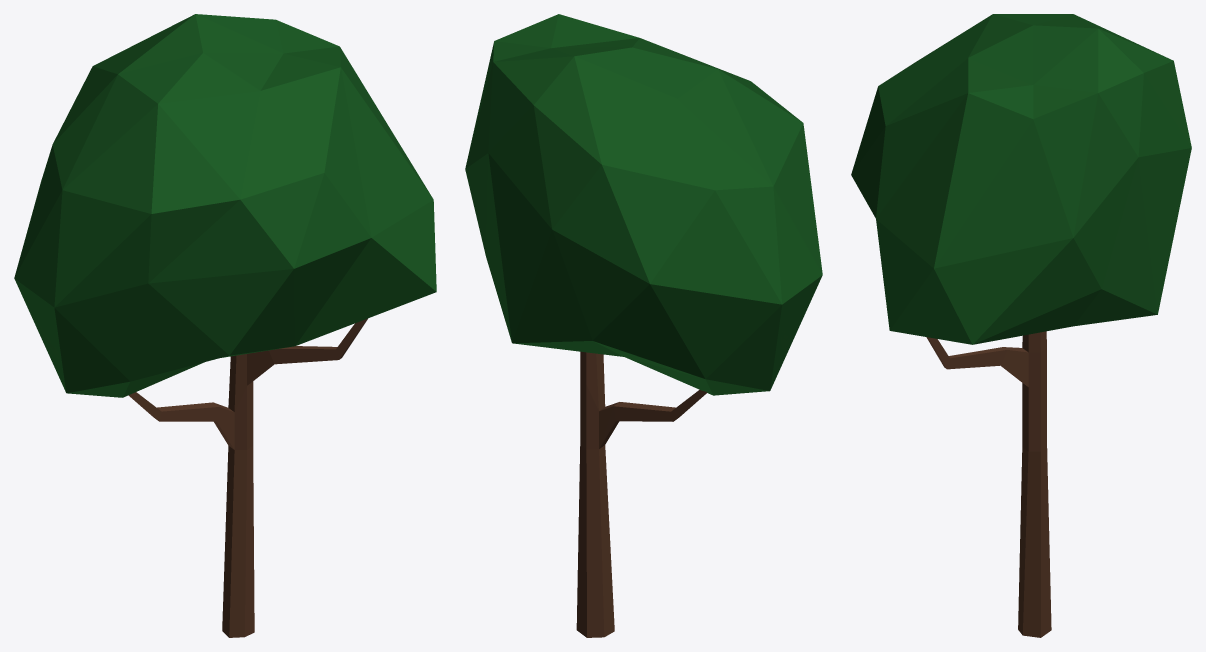
Rendered from mangosteen01__mesh_LOD.fbx.
3 views of the same model, side by side, from view 1: azimuth 30°, elevation 25°; view 2: azimuth 150°, elevation 25°; view 3: azimuth 270°, elevation 25° (orthographic).
Parts seen in each view (by area): view 1: mangosteen01__mesh_LOD0; view 2: mangosteen01__mesh_LOD0; view 3: mangosteen01__mesh_LOD0.
Part boxes in pixels (x1,y1,x2,y2): mangosteen01__mesh_LOD0: (14, 14, 436, 637); mangosteen01__mesh_LOD0: (465, 14, 822, 637); mangosteen01__mesh_LOD0: (851, 14, 1191, 637).
Size of what is drawn, in the model's own units: 3255 by 5301 by 2744.
2 materials, 2 textured.
